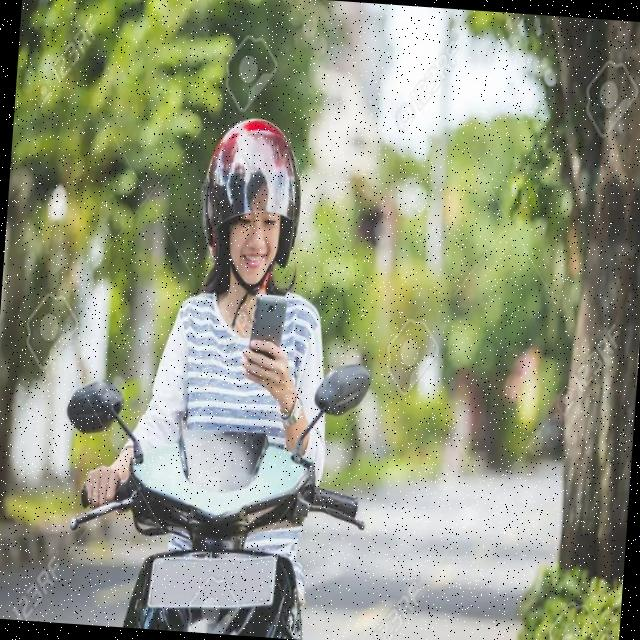Using mobile: (172, 110, 339, 403)
